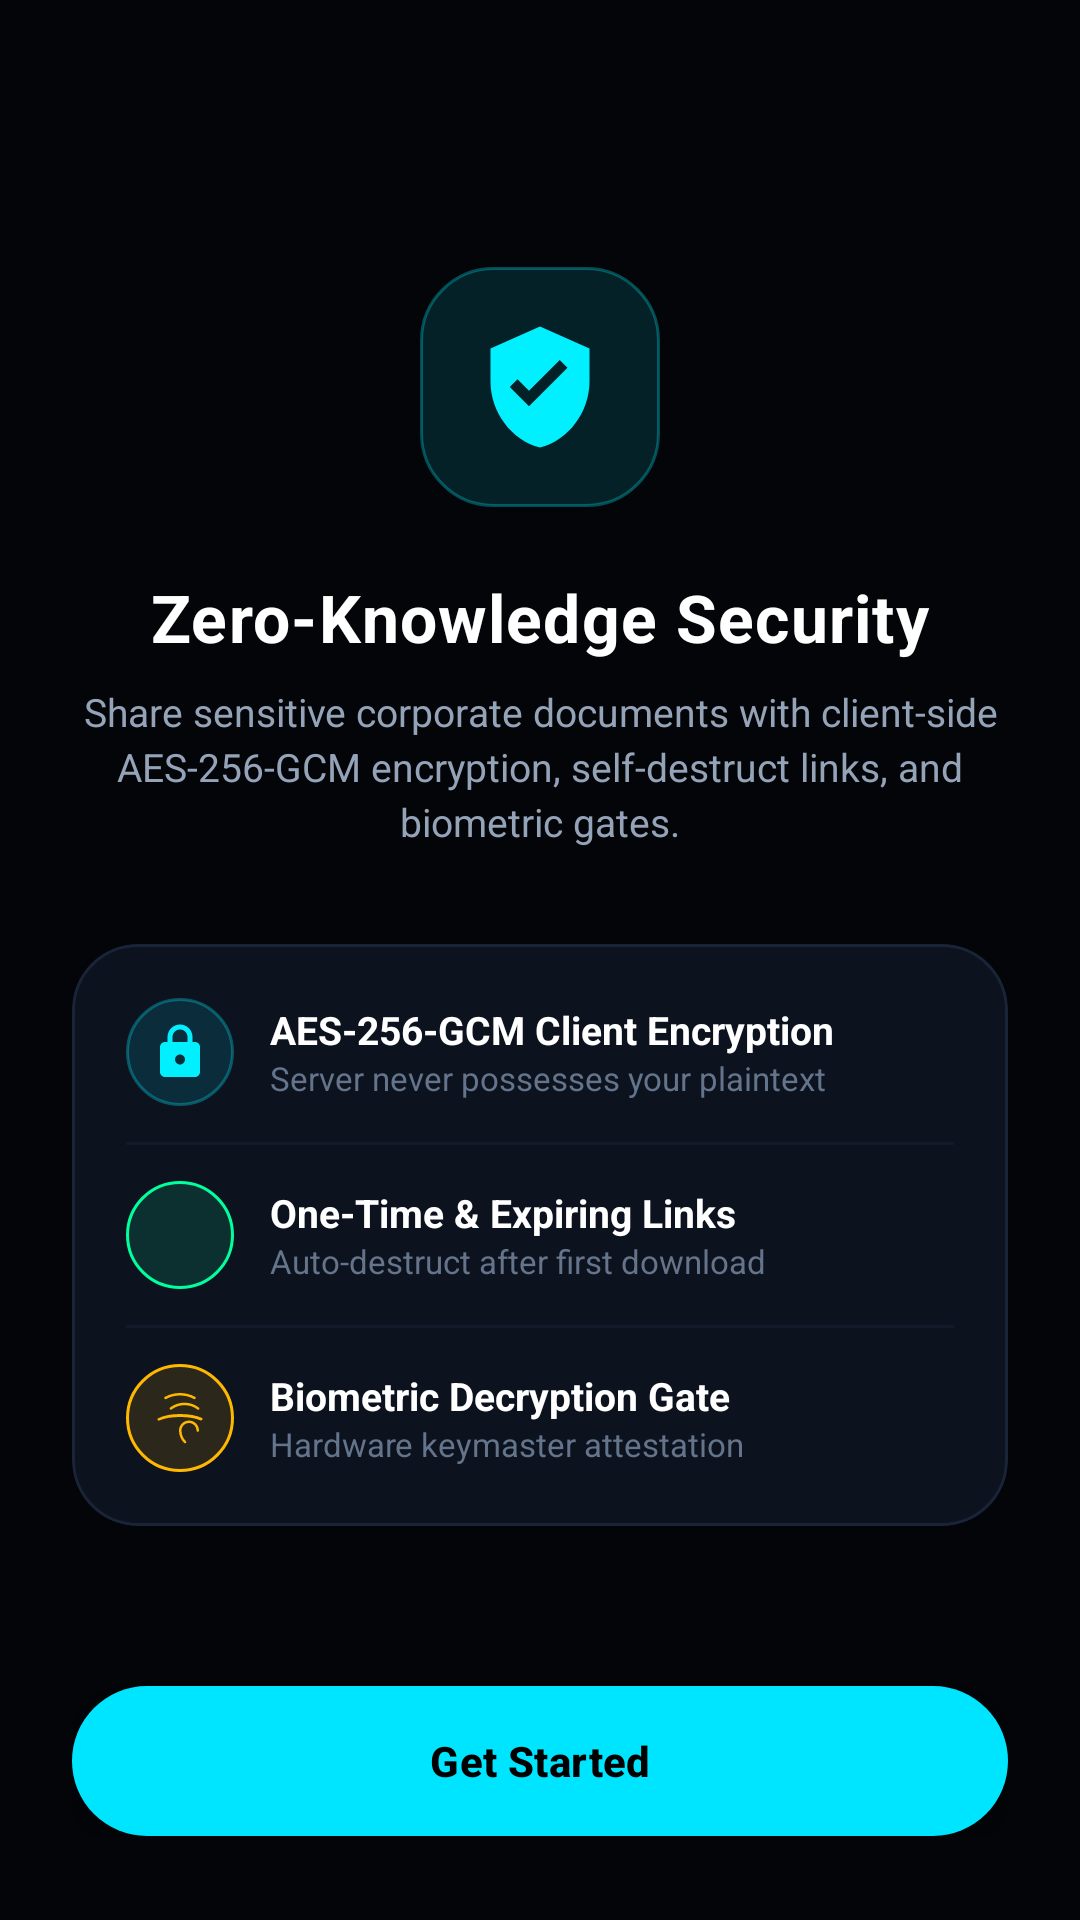

Point at icon controls on the screen. Image size 1080x1920, points as (x=x, y=y).
fingerprint: (x=180, y=1418)
lock: (x=180, y=1052)
shield check: (x=540, y=387)
